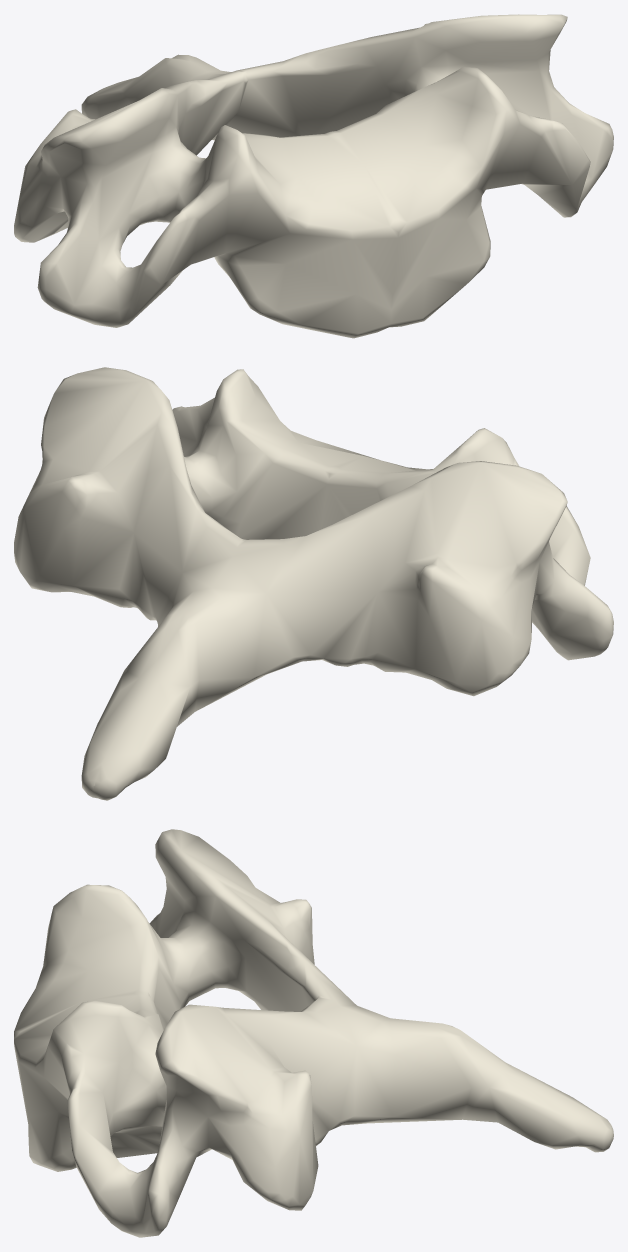
3 renders of one model, top to bottom at view 1: azimuth 30°, elevation 25°; view 2: azimuth 150°, elevation 25°; view 3: azimuth 270°, elevation 25°, orthographic.
Parts seen in each view (by area): view 1: ZA_dc49017304bfab11; view 2: ZA_dc49017304bfab11; view 3: ZA_dc49017304bfab11.
Boxes of the visible parts, <box> form: ZA_dc49017304bfab11: <box>14,14,613,338</box>; ZA_dc49017304bfab11: <box>14,367,613,800</box>; ZA_dc49017304bfab11: <box>14,829,613,1237</box>.
Size of the model in its own units: 0.0614 by 0.0225 by 0.0564.
